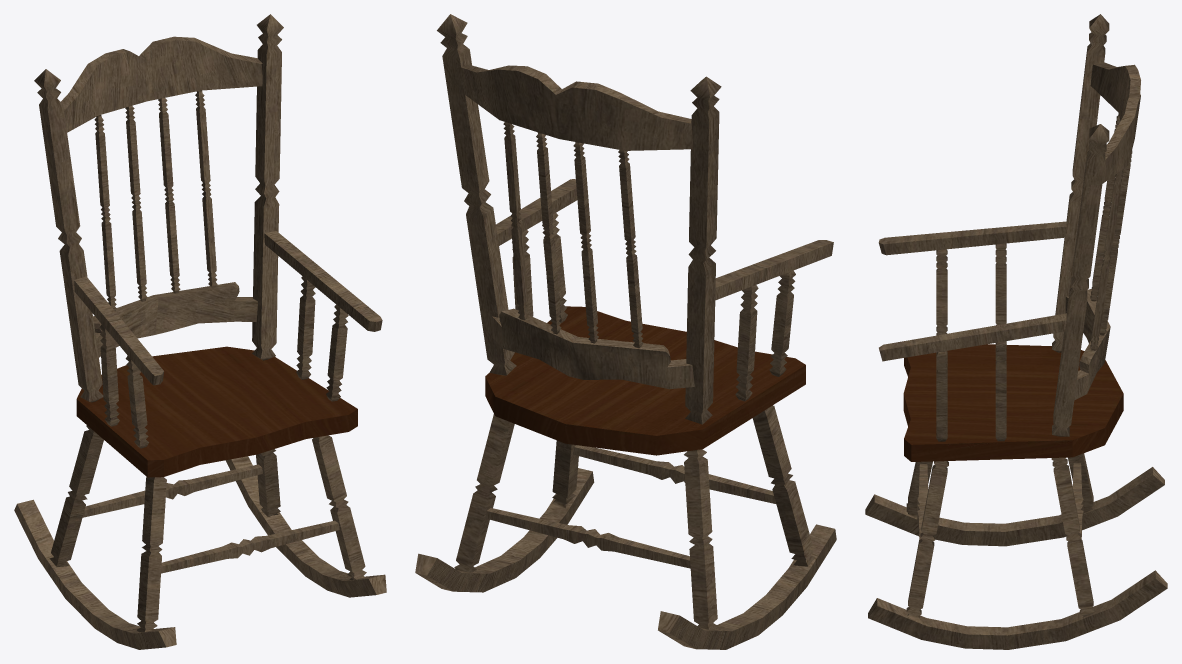
3 renders of one model, left to right at view 1: azimuth 30°, elevation 25°; view 2: azimuth 150°, elevation 25°; view 3: azimuth 270°, elevation 25°, orthographic. The views are drawn at different scales.
Parts seen in each view (by area): view 1: LOD0__2502; view 2: LOD0__2502; view 3: LOD0__2502.
Boxes of the visible parts, box(x1,y1,x2,y2) form: LOD0__2502: box(14, 14, 386, 649); LOD0__2502: box(415, 14, 836, 649); LOD0__2502: box(865, 14, 1167, 649).
Size of the model in its own units: 69.51 by 145 by 75.63.
1 material, 1 textured.
